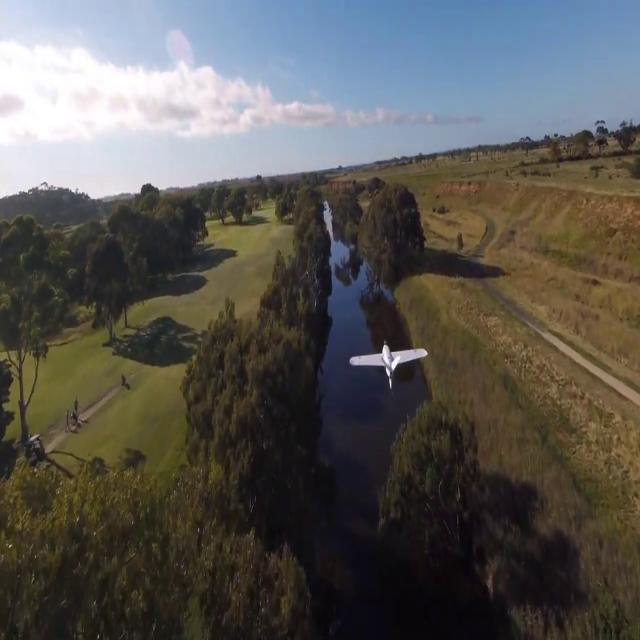iha: (382, 342, 398, 383)
